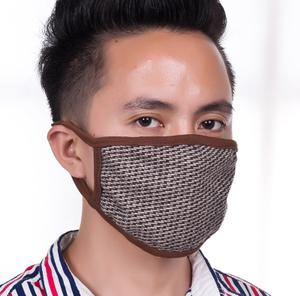OK: (80, 93, 238, 251)
